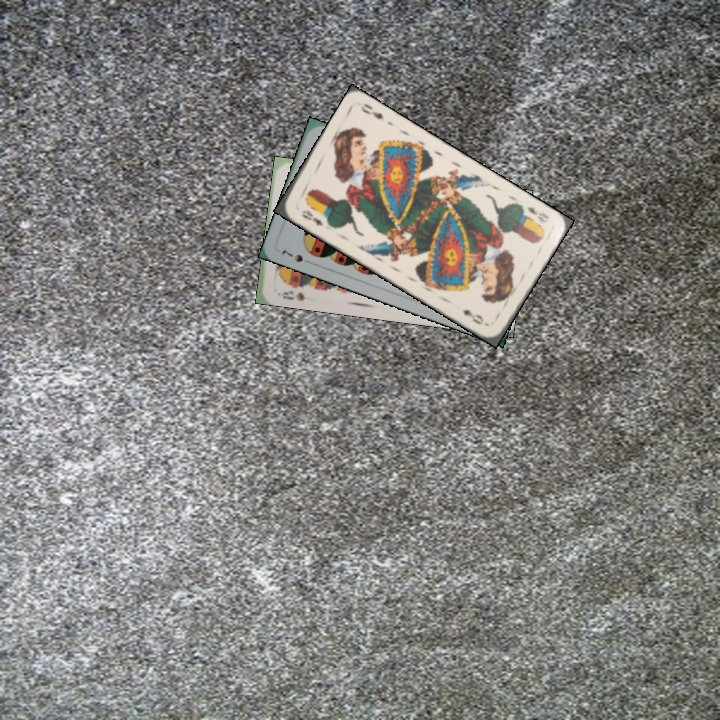EO: (523, 202, 552, 226), (298, 206, 325, 229)
S7: (278, 246, 315, 267)
S8: (273, 287, 308, 303)
